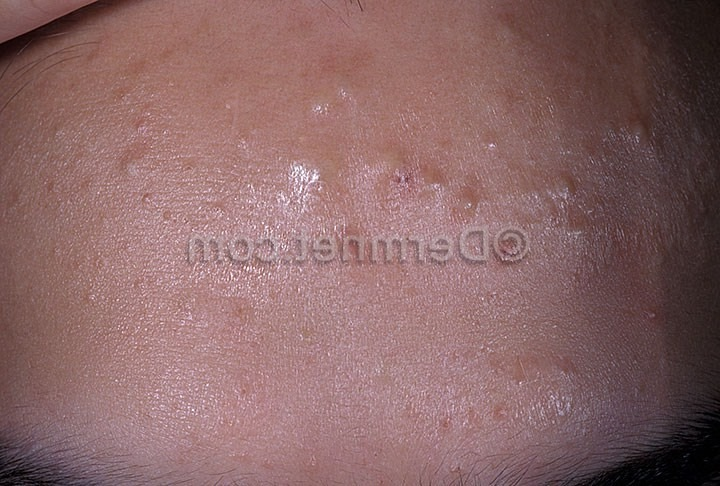Acne: (187, 124, 609, 266)
